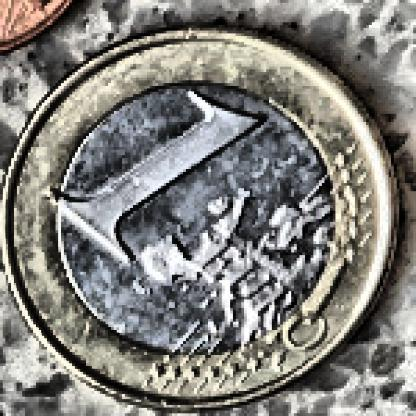coin: (1, 24, 402, 413)
